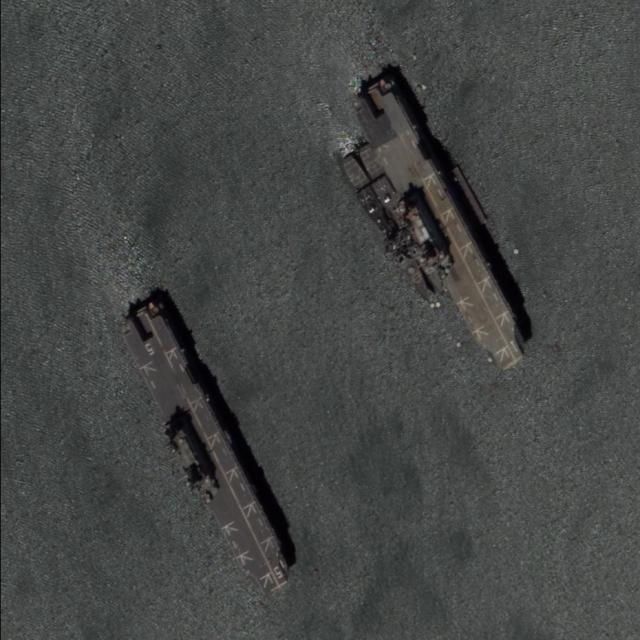Frigate: (340, 151, 435, 310), (354, 142, 448, 300)
Landing: (107, 293, 297, 604), (344, 72, 535, 377)
